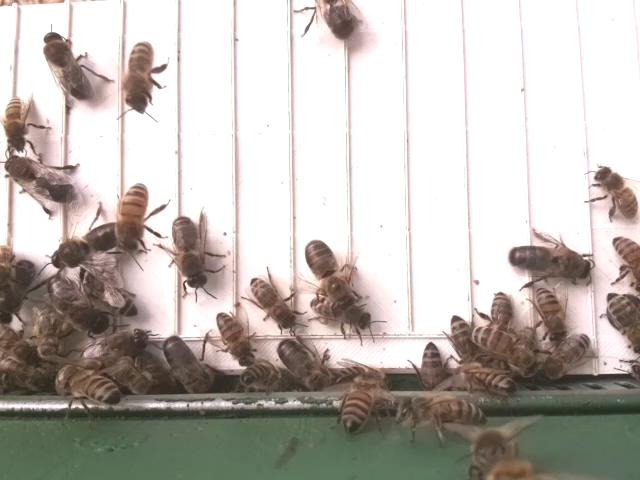Drone: (41, 273, 114, 336), (0, 154, 81, 204), (304, 238, 357, 312), (41, 28, 93, 103), (506, 242, 594, 283), (48, 222, 119, 271), (168, 213, 212, 291), (274, 335, 331, 392), (162, 332, 213, 395), (0, 256, 37, 325)
Worker: (52, 363, 123, 403), (471, 321, 534, 366), (592, 163, 640, 220), (540, 332, 592, 382), (249, 275, 297, 329), (119, 179, 150, 255), (122, 39, 156, 107), (342, 375, 379, 433), (605, 291, 640, 352), (214, 310, 254, 362), (534, 287, 568, 344), (2, 95, 30, 152)
